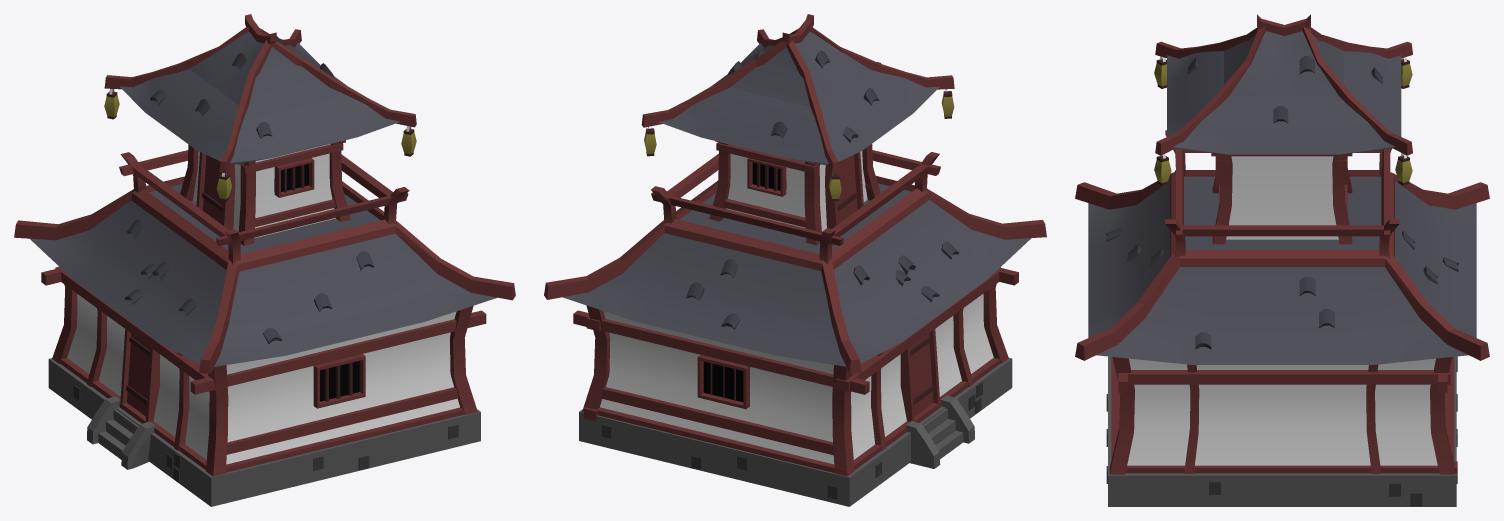
File: JapanHouse2.fbx
The picture shows the model from 3 angles, left to right: view 1: azimuth 30°, elevation 25°; view 2: azimuth 150°, elevation 25°; view 3: azimuth 270°, elevation 25°; orthographic projection. The views are drawn at different scales.
Parts seen in each view (by area): view 1: Box099; view 2: Box099; view 3: Box099.
Boxes of the visible parts, x1,y1,x2,y2 form: Box099: (14,14,515,506); Box099: (544,14,1046,506); Box099: (1075,14,1489,506).
Size of the model in its own units: 1007 by 1190 by 1064.
